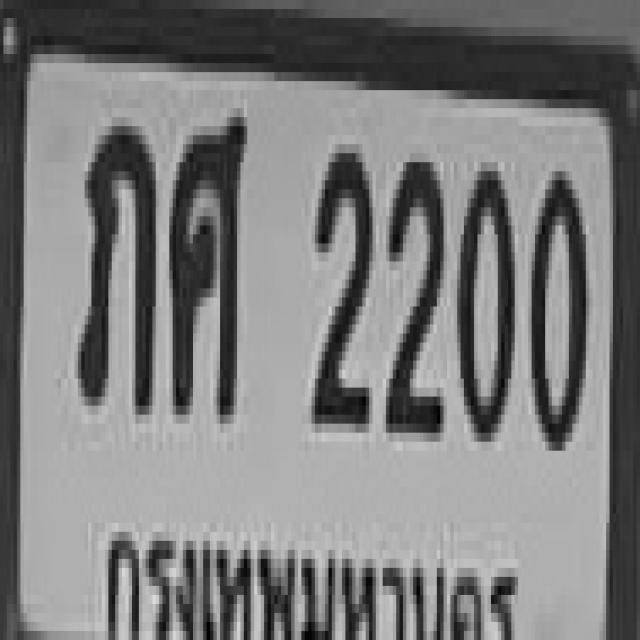0: (528, 162, 586, 442), (454, 153, 511, 433)
2: (308, 140, 369, 419), (383, 149, 440, 428)
41PhorSamPhao: (76, 117, 154, 406)
47SorSala: (168, 108, 242, 415)
